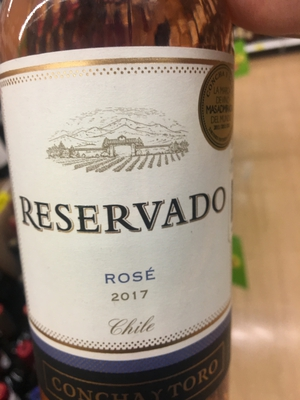reservado rose: (3, 14, 241, 400)
